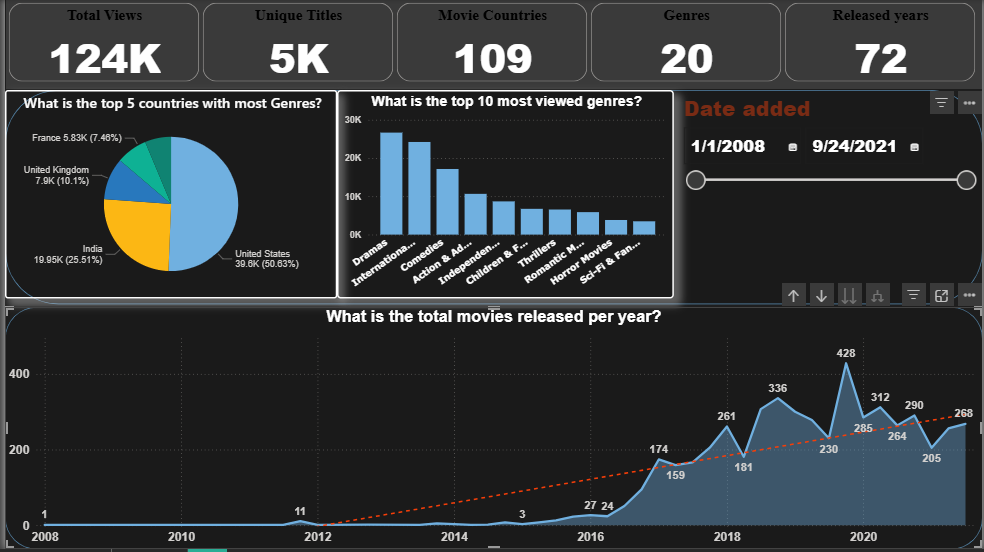

Layout of this report page (visuals, bound fields, positions):
{"tool":"powerbi","page":{"name":"Page 1","canvas":[1280,720],"ordinal":0},"visuals":[{"type":"shape","box":[0,10.3,1280,108.7],"z":0,"group":"g1"},{"type":"group","id":"g1","title":"background","box":[0,10.3,1280,709.7],"z":0},{"type":"cardVisual","fields":{"Data":["_measures.Views Count","_measures.Total Unique Titles","_measures.Distinct Countries","_measures.Distinct Genres","_measures.Distinct Released years"]},"box":[0,0,1279.8,119],"z":1000},{"type":"shape","box":[0,402.6,1280,317.4],"z":1000,"group":"g1"},{"type":"shape","box":[0,119,1280,280.7],"z":2000,"group":"g1"},{"type":"pieChart","title":"What is the top 5 countries with most Genres?","fields":{"Category":["Netflix.Country"],"Y":["CountNonNull(Netflix.Genre)"]},"box":[0,119,434.9,273.3],"z":2000},{"type":"lineStackedColumnComboChart","title":"What is the top 10 most viewed genres?","fields":{"Category":["Netflix.Genre"],"Y":["_measures.Views Count"]},"box":[434.9,119,440.8,273.3],"z":3000},{"type":"lineChart","title":"What is the total movies released per year?","fields":{"Y":["_measures.Total Titles"],"Category":["Netflix.date_added.Variation.Date Hierarchy.Year","Netflix.date_added.Variation.Date Hierarchy.Quarter"]},"box":[0,403.2,1280.3,316.8],"z":4000},{"type":"slicer","fields":{"Values":["Netflix.date_added"]},"box":[876,119,404,273],"z":5000}]}

Visuals, with their boxes in screenshot pixels (x1, y1, x2, y2), scaled from the page's 1280x720 canvas onto the 984x552 screenshot:
shape: <region>0, 8, 983, 91</region>
"background" group: <region>0, 8, 983, 551</region>
cardVisual - _measures.Views Count x _measures.Total Unique Titles: <region>0, 0, 983, 91</region>
shape: <region>0, 309, 983, 551</region>
shape: <region>0, 91, 983, 306</region>
"What is the top 5 countries with most Genres?" pieChart: <region>0, 91, 334, 301</region>
"What is the top 10 most viewed genres?" lineStackedColumnComboChart: <region>334, 91, 673, 301</region>
"What is the total movies released per year?" lineChart: <region>0, 309, 983, 551</region>
slicer - Netflix.date_added: <region>673, 91, 983, 301</region>
